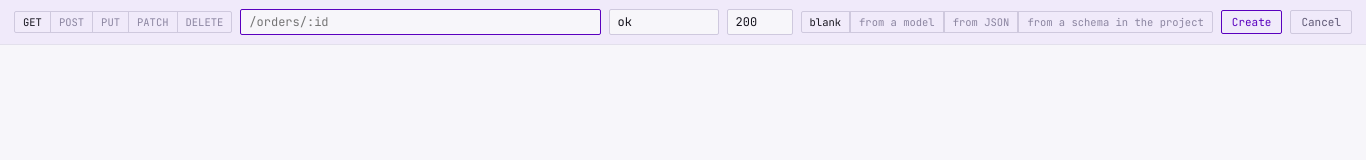
Test: CreateEndpointRow › suggests the path the developer meant when the slash is missing
Type "test2" into the field named "path" at (420, 22), box [240,9,600,35]
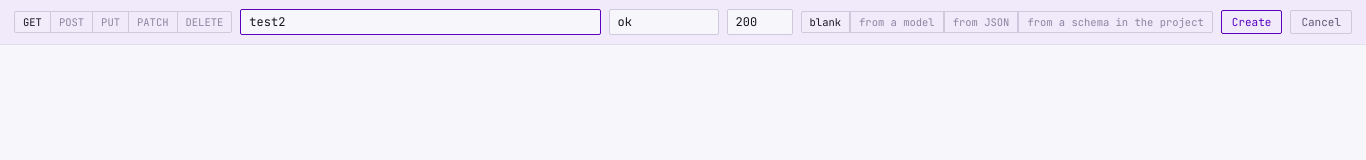
Click the button "Create" at (1252, 22), box [1221,10,1282,34]
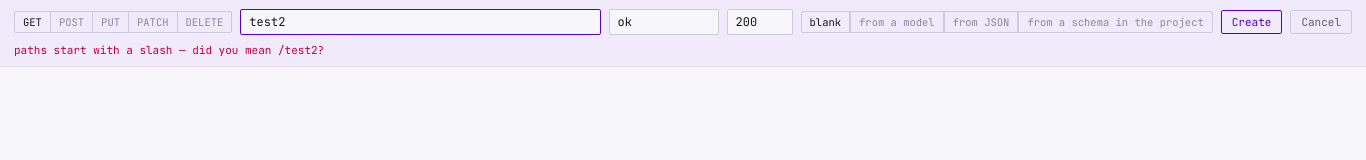
expect the message shows "/test2": met, box [14,43,324,57]
